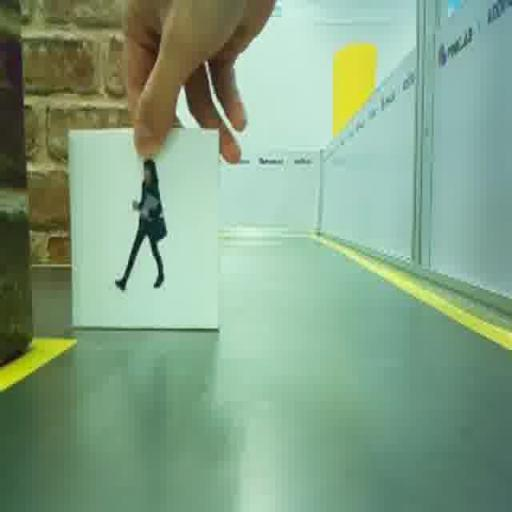human: (115, 160, 166, 289)
